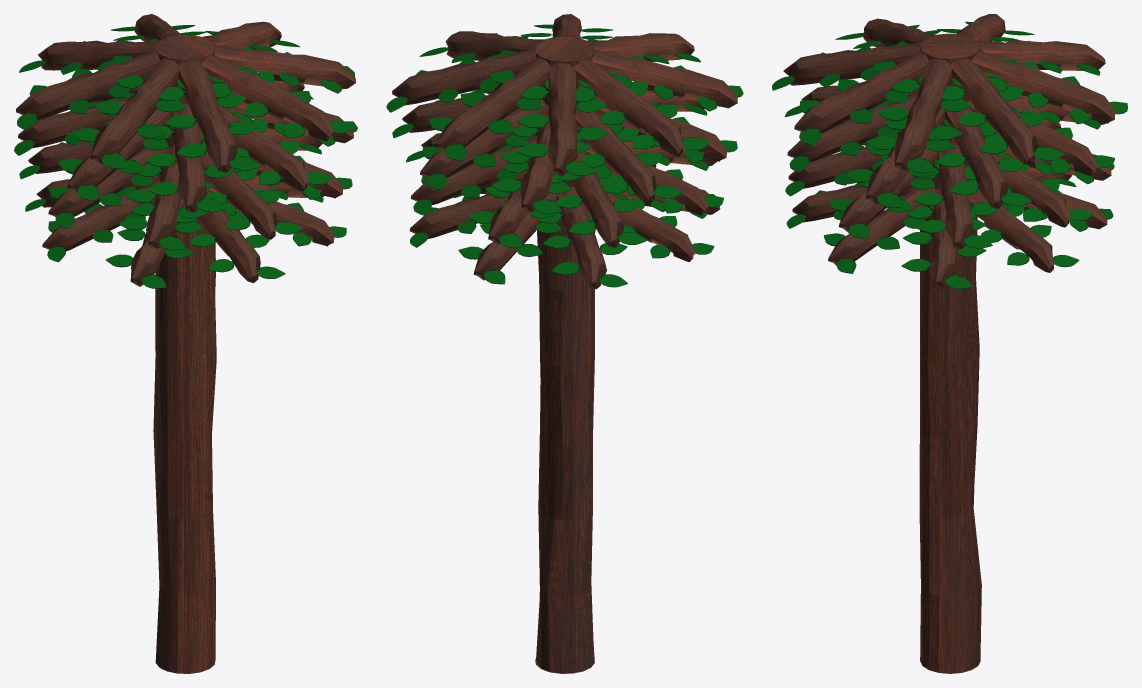
3 views of the same model, side by side, from view 1: azimuth 30°, elevation 25°; view 2: azimuth 150°, elevation 25°; view 3: azimuth 270°, elevation 25° (orthographic).
Visible parts, largest first — view 1: 木ﾊﾟﾀｰﾝ１, 柱_29, 柱_32, 柱_31, 柱_30, 柱_28, 柱_25, 柱_21, 柱_7, 柱_13, 柱_22, 柱_24 (+11 smaller); view 2: 木ﾊﾟﾀｰﾝ１, 柱_32, 柱_31, 柱_26, 柱_27, 柱_25, 柱_24, 柱_30, 柱_18, 柱_16, 柱_8, 柱_10 (+12 smaller); view 3: 木ﾊﾟﾀｰﾝ１, 柱_26, 柱_29, 柱_27, 柱_28, 柱_30, 柱_25, 柱_19, 柱_21, 柱_2, 柱_4, 柱_11 (+11 smaller).
Boxes of the visible parts, x1,y1,x2,y2 form: 木ﾊﾟﾀｰﾝ１: [153, 35, 216, 673]; 柱_29: [202, 54, 333, 141]; 柱_32: [16, 49, 159, 120]; 柱_31: [90, 58, 179, 165]; 柱_30: [178, 60, 237, 173]; 柱_28: [215, 45, 356, 88]; 柱_25: [38, 40, 160, 70]; 柱_21: [217, 104, 308, 191]; 柱_7: [42, 178, 159, 251]; 柱_13: [202, 150, 275, 239]; 柱_22: [172, 103, 207, 212]; 柱_24: [18, 97, 130, 148]; 木ﾊﾟﾀｰﾝ１: [535, 36, 595, 673]; 柱_32: [574, 58, 684, 156]; 柱_31: [591, 49, 737, 108]; 柱_26: [435, 57, 550, 153]; 柱_27: [392, 47, 536, 105]; 柱_25: [548, 62, 577, 176]; 柱_24: [575, 108, 655, 203]; 柱_30: [587, 33, 694, 61]; 柱_18: [420, 99, 546, 178]; 柱_16: [570, 151, 623, 247]; 柱_8: [557, 187, 606, 289]; 柱_10: [410, 136, 537, 205]; 木ﾊﾟﾀｰﾝ１: [919, 33, 981, 673]; 柱_26: [972, 50, 1116, 123]; 柱_29: [794, 51, 929, 133]; 柱_27: [951, 58, 1036, 165]; 柱_28: [894, 58, 952, 171]; 柱_30: [783, 42, 921, 85]; 柱_25: [977, 40, 1105, 70]; 柱_19: [945, 107, 1008, 208]; 柱_21: [787, 92, 918, 162]; 柱_2: [968, 189, 1054, 272]; 柱_4: [828, 188, 935, 265]; 柱_11: [937, 145, 973, 249].
Bounding box in the file's own units: 529 × 1009 × 529.
2 materials, 1 textured.
